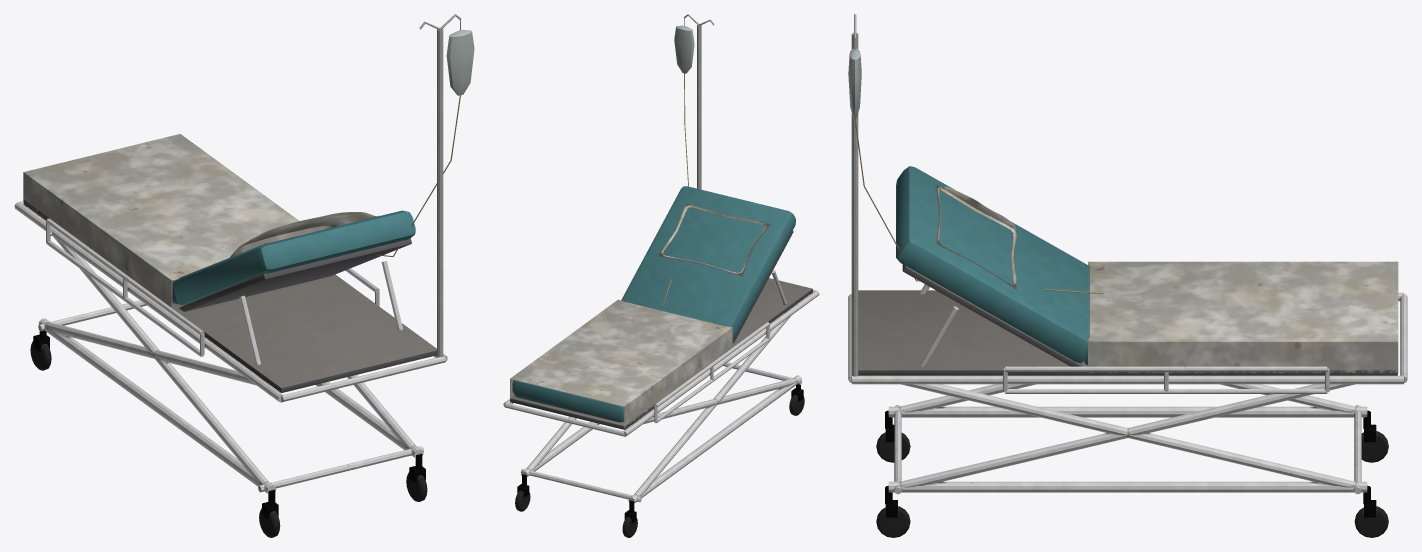
The model's file is maca.glb.
3 renders of one model, left to right at view 1: azimuth 30°, elevation 25°; view 2: azimuth 150°, elevation 25°; view 3: azimuth 270°, elevation 25°, orthographic. The views are drawn at different scales.
Visible parts, largest first — view 1: maca; view 2: maca; view 3: maca.
Part boxes in pixels (x1,y1,x2,y2): maca: [14, 14, 474, 537]; maca: [503, 14, 819, 537]; maca: [848, 14, 1407, 537].
Size of the model in its own units: 0.799 by 1.86 by 1.82.
Materials: 1 (1 with a texture image).
